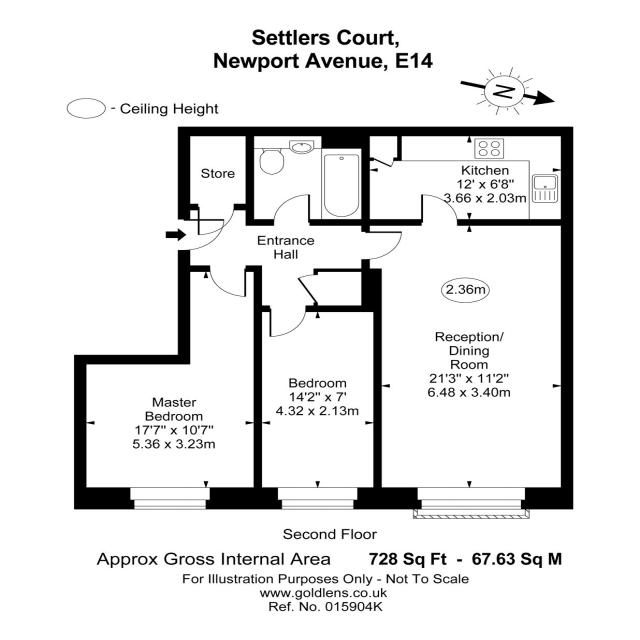DOOR: (361, 229, 405, 263), (419, 192, 462, 226), (207, 266, 249, 300), (268, 305, 310, 339), (272, 193, 312, 226)
ROOM: (361, 188, 574, 510), (74, 265, 263, 509), (254, 306, 384, 512), (369, 126, 573, 226)
WINDOW: (414, 485, 533, 511), (125, 485, 212, 511), (276, 484, 362, 510)
